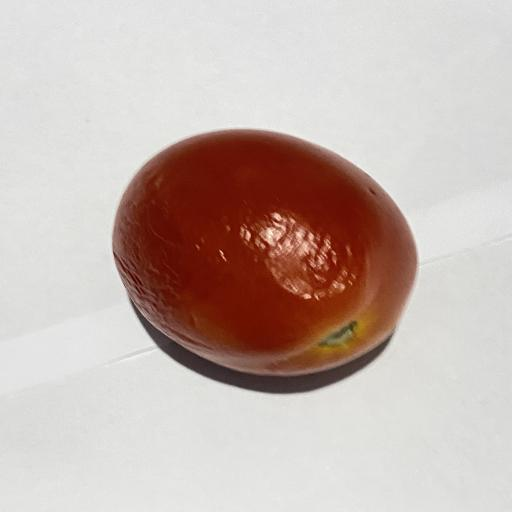spoiled: (113, 130, 417, 375)
